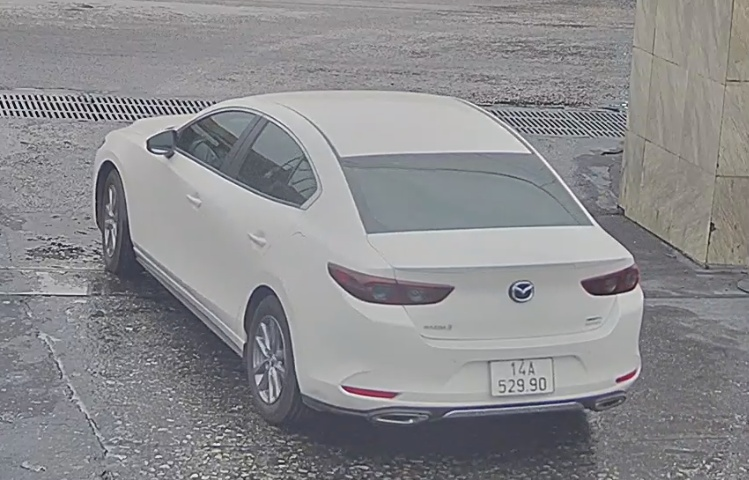vehicle plate: (489, 351, 557, 399)
